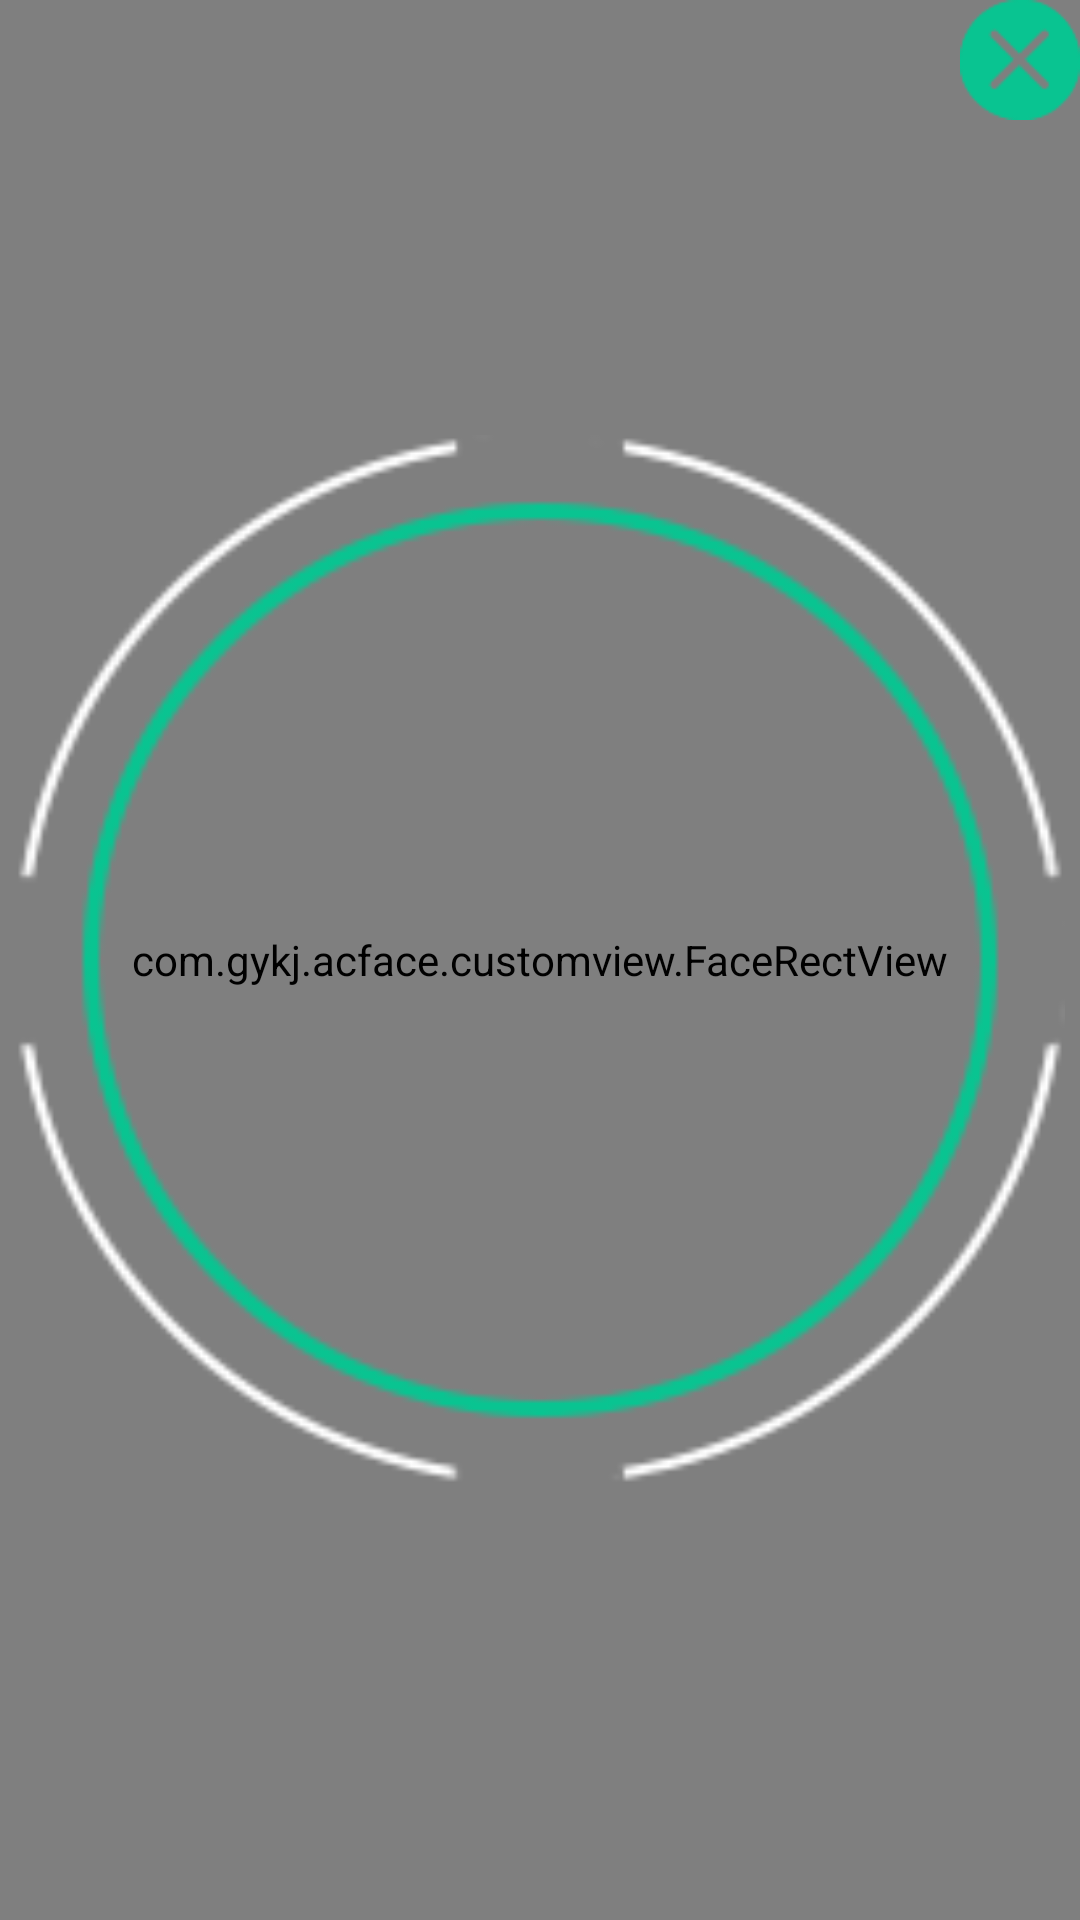

Where to tap for icons on this 1080*1920 app screen, as (x=x, y=y):
close: (x=1020, y=60)
